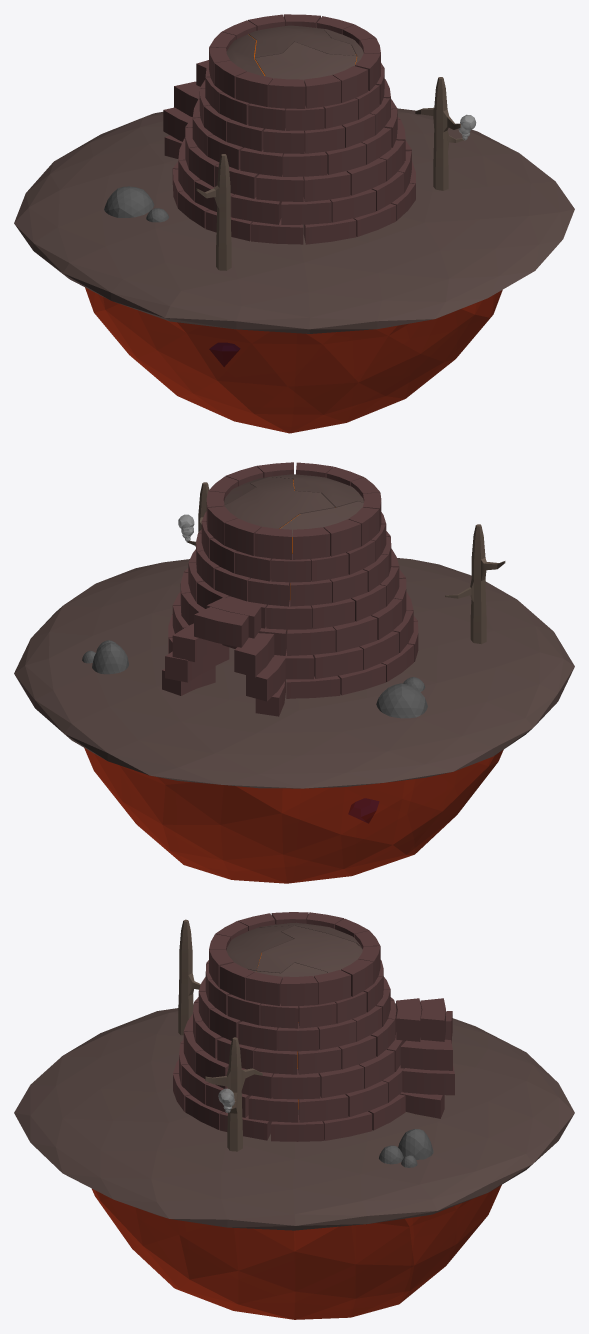
Rendered from isla_estelar.glb.
3 renders of one model, top to bottom at view 1: azimuth 30°, elevation 25°; view 2: azimuth 150°, elevation 25°; view 3: azimuth 270°, elevation 25°, orthographic. The views are drawn at different scales.
Parts seen in each view (by area): view 1: pPlatonic36_Ground_lava_0, pCube23_Stone_0, pPlatonic38_orb_0, pCylinder12_dark_wood_0, pPlatonic43_rocks_0; view 2: pPlatonic36_Ground_lava_0, pCube23_Stone_0, pPlatonic38_orb_0, pPlatonic43_rocks_0, pCylinder12_dark_wood_0; view 3: pPlatonic36_Ground_lava_0, pCube23_Stone_0, pPlatonic38_orb_0, pCylinder12_dark_wood_0, pPlatonic43_rocks_0.
Boxes of the visible parts, bbox=[...] form: pPlatonic36_Ground_lava_0: bbox=[14, 25, 574, 333]; pCube23_Stone_0: bbox=[163, 14, 415, 244]; pPlatonic38_orb_0: bbox=[85, 287, 502, 433]; pCylinder12_dark_wood_0: bbox=[196, 77, 464, 270]; pPlatonic43_rocks_0: bbox=[104, 186, 168, 222]; pPlatonic36_Ground_lava_0: bbox=[14, 474, 574, 788]; pCube23_Stone_0: bbox=[162, 462, 418, 716]; pPlatonic38_orb_0: bbox=[84, 748, 503, 883]; pPlatonic43_rocks_0: bbox=[82, 640, 427, 718]; pCylinder12_dark_wood_0: bbox=[187, 482, 505, 643]; pPlatonic36_Ground_lava_0: bbox=[14, 922, 574, 1230]; pCube23_Stone_0: bbox=[173, 912, 454, 1141]; pPlatonic38_orb_0: bbox=[92, 1185, 501, 1319]; pCylinder12_dark_wood_0: bbox=[178, 919, 262, 1151]; pPlatonic43_rocks_0: bbox=[379, 1129, 433, 1167].
Bounding box in the file's own units: 22.62 × 17 × 23.72.
